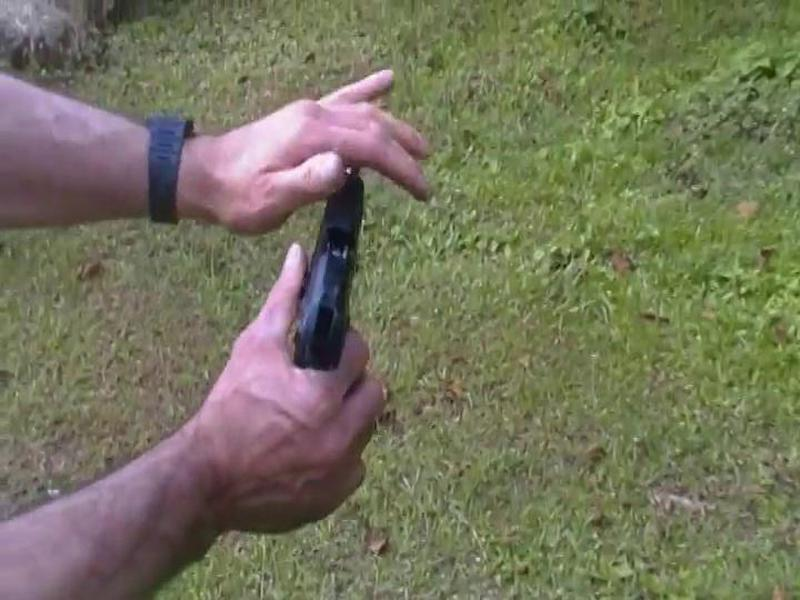Pistola: (232, 133, 421, 411)
